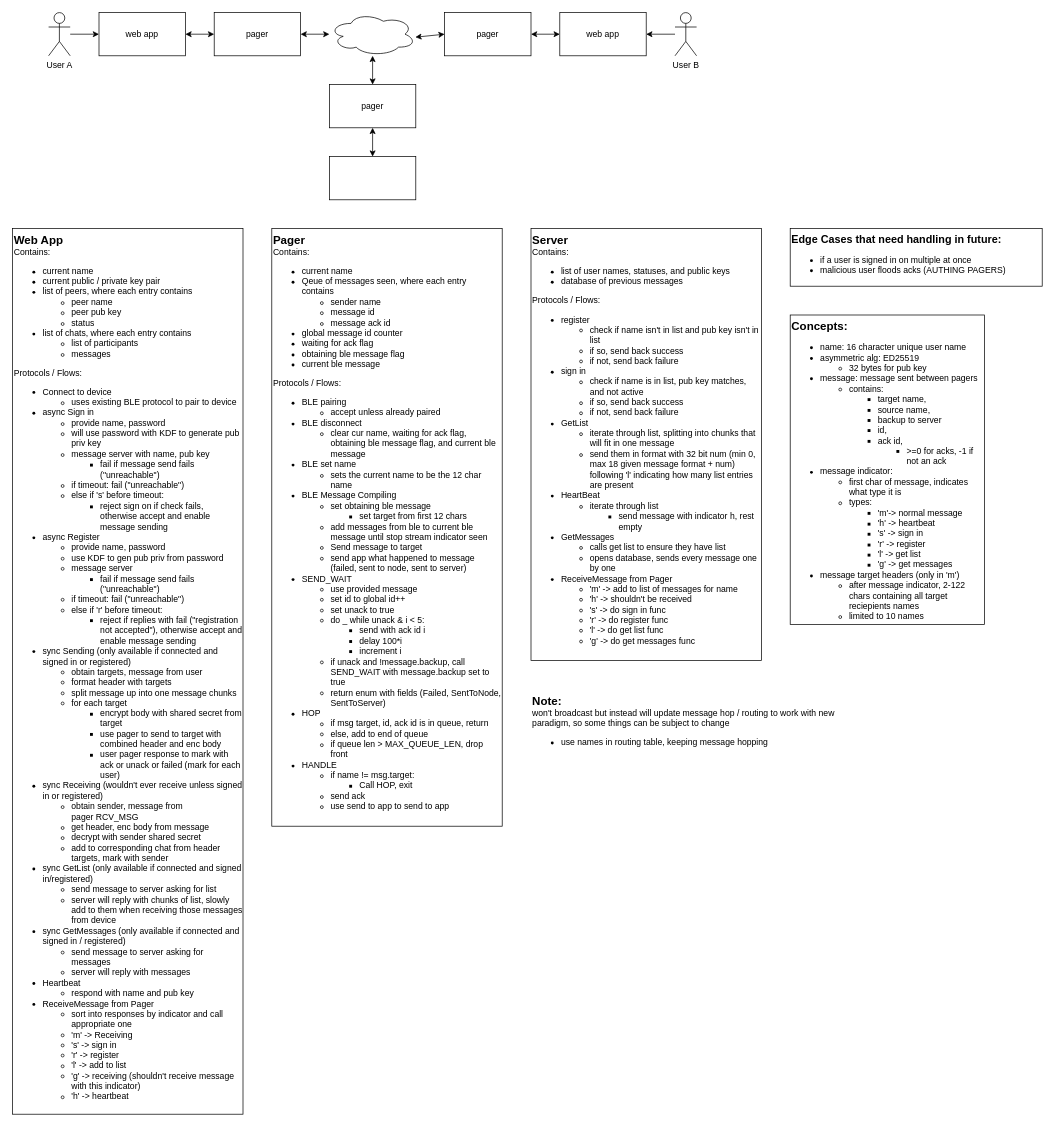
Image size: 1055x1127. Some labels were removed from this diagram. The centre of each missing label's shape, as x and y in pixels:
mesh: the point at 372,34
server: the point at 372,178
